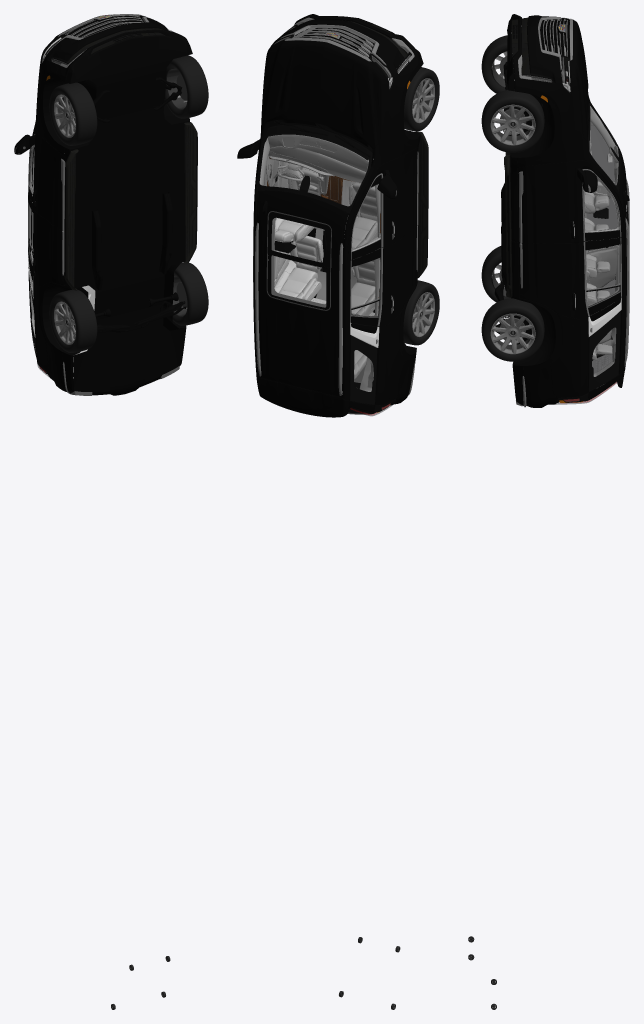
File: Cadillac.glb
3 renders of one model, left to right at view 1: azimuth 30°, elevation 25°; view 2: azimuth 150°, elevation 25°; view 3: azimuth 270°, elevation 25°, orthographic. The views are drawn at different scales.
Parts seen in each view (by area): view 1: E:swb_blackouts_blackouts_swb_swb_blackouts_blackouts_swb_M_, E:common_Paint_Body_FRNT_common_paint_body_common_001_commo_, E:swb_Paint_Body_SWB_Rear_swb_Paint_Body_SWB_Rear_Paint_Bod_, E:swb_combined_mesh_combined_mesh_swb_swb_combined_mesh_com_, set_ssx_swb_esv_wheel1_set_ssx_swb_esv_wheel_combined_textu. (×2), E:common_black_smooth_black_smooth_common_001_common_black__, E:swb_painted_black_painted_black_swb_swb_painted_black_pai_, Wheels:set_ssx_swb_esv_wheel1_set_ssx_swb_esv_wheel_combine_, set_ssx_swb_esv_wheel1_set_ssx_swb_esv_wheel_combined_textu_, E:common_blackout_blackout_common_001_common_blackout_black_, E:common_galvano_silver_galvano_paint_common_001_common_gal_, E:swb_smooth_plastics_smooth_plastics_swb_swb_smooth_plasti_ (+5 smaller); view 2: E:swb_Paint_Body_SWB_Rear_swb_Paint_Body_SWB_Rear_Paint_Bod_, E:common_Paint_Body_FRNT_common_paint_body_common_001_commo_, E:common_window_glass_window_glass_common_001_common_window_, E:swb_esv_int_common_Mesh_025_swb_esv_int_common_Mesh_025_S. (×2), E:common_black_smooth_black_smooth_common_001_common_black__, E:swb_glass_windows_glass_windows_swb_swb_glass_windows_gla_, E:swb_int_rear_Mesh_026_swb_int_rear_Mesh_026_Misc_Interior., E:common_galvano_silver_galvano_paint_common_001_common_gal_, E:common_misc_primer_mis_primers_common_001_common_misc_pri_, E:swb_combined_mesh_combined_mesh_swb_swb_combined_mesh_com_, E:swb_stainless_steel_stainless_steel_swb_swb_stainless_ste_, set_ssx_swb_esv_wheel1_set_ssx_swb_esv_wheel_combined_textu_ (+11 smaller); view 3: E:common_Paint_Body_FRNT_common_paint_body_common_001_commo_, E:swb_Paint_Body_SWB_Rear_swb_Paint_Body_SWB_Rear_Paint_Bod_, E:swb_glass_windows_glass_windows_swb_swb_glass_windows_gla_, set_ssx_swb_esv_wheel1_set_ssx_swb_esv_wheel_combined_textu. (×2), E:common_window_glass_window_glass_common_001_common_window_, E:swb_esv_int_common_Mesh_025_swb_esv_int_common_Mesh_025_S. (×2), E:swb_smooth_plastics_smooth_plastics_swb_swb_smooth_plasti_, E:common_blackout_blackout_common_001_common_blackout_black_, E:swb_int_rear_Mesh_026_swb_int_rear_Mesh_026_Misc_Interior., E:common_black_smooth_black_smooth_common_001_common_black__, E:common_galvano_silver_galvano_paint_common_001_common_gal_, E:swb_blackouts_blackouts_swb_swb_blackouts_blackouts_swb_M_ (+12 smaller).
Part boxes in pixels (<box>): E:swb_blackouts_blackouts_swb_swb_blackouts_blackouts_swb_M_: <box>30,49,191,392</box>; E:common_Paint_Body_FRNT_common_paint_body_common_001_commo_: <box>14,16,186,229</box>; E:swb_Paint_Body_SWB_Rear_swb_Paint_Body_SWB_Rear_Paint_Bod_: <box>28,126,183,392</box>; E:swb_combined_mesh_combined_mesh_swb_swb_combined_mesh_com_: <box>28,122,197,372</box>; set_ssx_swb_esv_wheel1_set_ssx_swb_esv_wheel_combined_textu. (×2): <box>164,55,208,325</box>; E:common_black_smooth_black_smooth_common_001_common_black__: <box>15,15,192,154</box>; E:swb_painted_black_painted_black_swb_swb_painted_black_pai_: <box>74,192,186,391</box>; Wheels:set_ssx_swb_esv_wheel1_set_ssx_swb_esv_wheel_combine_: <box>49,82,97,145</box>; set_ssx_swb_esv_wheel1_set_ssx_swb_esv_wheel_combined_textu_: <box>49,289,97,352</box>; E:common_blackout_blackout_common_001_common_blackout_black_: <box>34,18,187,229</box>; E:common_galvano_silver_galvano_paint_common_001_common_gal_: <box>28,14,150,230</box>; E:swb_smooth_plastics_smooth_plastics_swb_swb_smooth_plasti_: <box>28,118,189,395</box>; E:swb_Paint_Body_SWB_Rear_swb_Paint_Body_SWB_Rear_Paint_Bod_: <box>253,140,417,417</box>; E:common_Paint_Body_FRNT_common_paint_body_common_001_commo_: <box>237,14,421,260</box>; E:common_window_glass_window_glass_common_001_common_window_: <box>257,125,380,309</box>; E:swb_esv_int_common_Mesh_025_swb_esv_int_common_Mesh_025_S. (×2): <box>259,134,380,315</box>; E:common_black_smooth_black_smooth_common_001_common_black__: <box>237,16,423,309</box>; E:swb_glass_windows_glass_windows_swb_swb_glass_windows_gla_: <box>348,258,379,413</box>; E:swb_int_rear_Mesh_026_swb_int_rear_Mesh_026_Misc_Interior.: <box>268,217,380,394</box>; E:common_galvano_silver_galvano_paint_common_001_common_gal_: <box>253,17,418,259</box>; E:common_misc_primer_mis_primers_common_001_common_misc_pri_: <box>257,124,372,213</box>; E:swb_combined_mesh_combined_mesh_swb_swb_combined_mesh_com_: <box>253,131,428,409</box>; E:swb_stainless_steel_stainless_steel_swb_swb_stainless_ste_: <box>255,222,343,395</box>; set_ssx_swb_esv_wheel1_set_ssx_swb_esv_wheel_combined_textu_: <box>403,280,439,345</box>; E:common_Paint_Body_FRNT_common_paint_body_common_001_commo_: <box>513,14,629,243</box>; E:swb_Paint_Body_SWB_Rear_swb_Paint_Body_SWB_Rear_Paint_Bod_: <box>519,106,626,407</box>; E:swb_glass_windows_glass_windows_swb_swb_glass_windows_gla_: <box>586,196,620,391</box>; set_ssx_swb_esv_wheel1_set_ssx_swb_esv_wheel_combined_textu. (×2): <box>481,89,544,361</box>; E:common_window_glass_window_glass_common_001_common_window_: <box>555,20,628,231</box>; E:swb_esv_int_common_Mesh_025_swb_esv_int_common_Mesh_025_S. (×2): <box>583,106,619,304</box>; E:swb_smooth_plastics_smooth_plastics_swb_swb_smooth_plasti_: <box>510,154,624,405</box>; E:common_blackout_blackout_common_001_common_blackout_black_: <box>511,17,623,243</box>; E:swb_int_rear_Mesh_026_swb_int_rear_Mesh_026_Misc_Interior.: <box>584,146,626,386</box>; E:common_black_smooth_black_smooth_common_001_common_black__: <box>507,14,628,224</box>; E:common_galvano_silver_galvano_paint_common_001_common_gal_: <box>518,15,621,243</box>; E:swb_blackouts_blackouts_swb_swb_blackouts_blackouts_swb_M_: <box>507,38,624,395</box>.
Size of the model in its own units: 4.11 by 24.62 by 3.72.
Materials: 35 (12 with a texture image).
